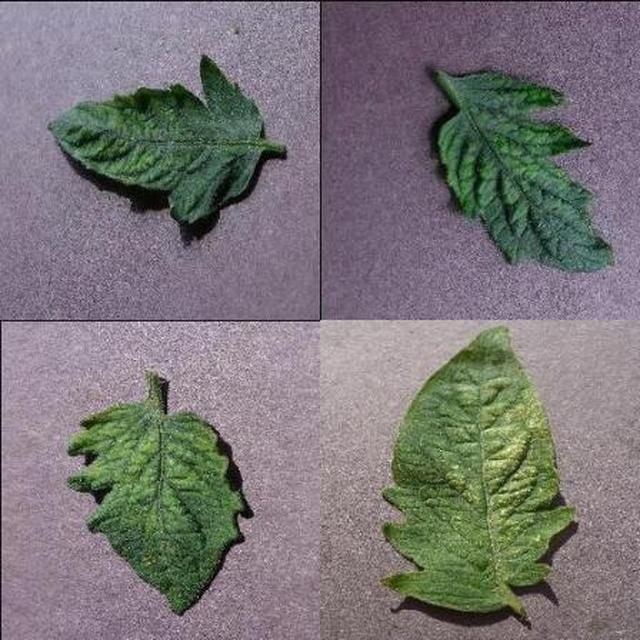Mosaic Virus Leaf: (219, 196, 640, 640)
